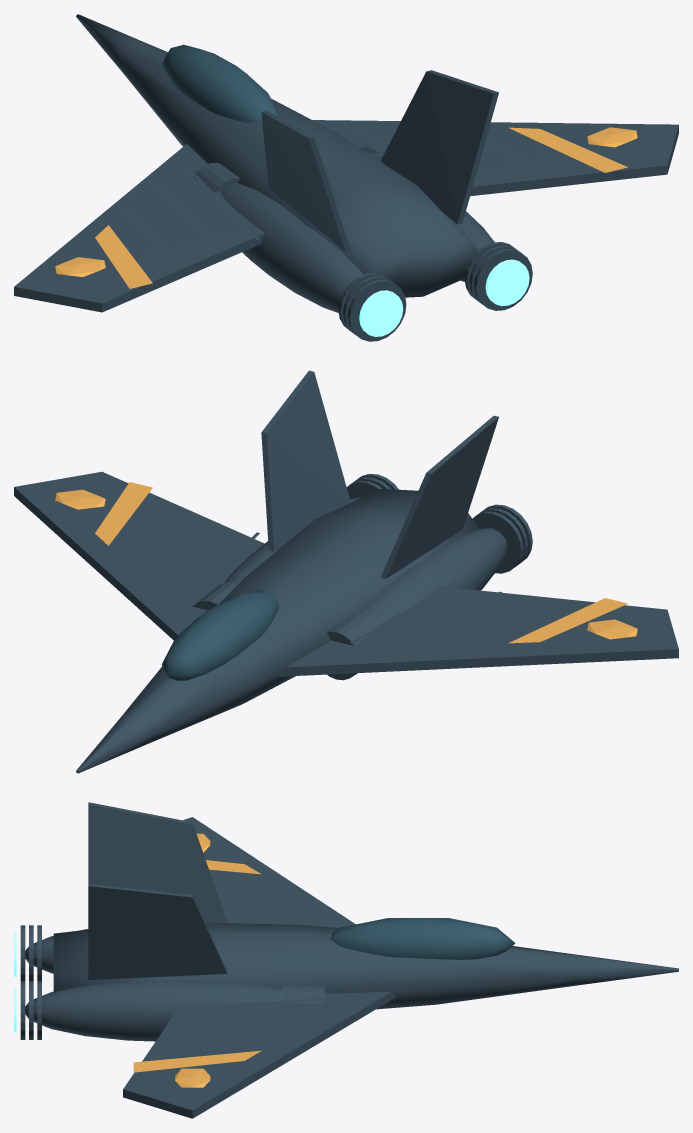
The model's file is recon-drone.glb.
The picture shows the model from 3 angles, top to bottom: view 1: azimuth 30°, elevation 25°; view 2: azimuth 150°, elevation 25°; view 3: azimuth 270°, elevation 25°; orthographic projection. The views are drawn at different scales.
Parts seen in each view (by area): view 1: recon-drone; view 2: recon-drone; view 3: recon-drone.
Boxes of the visible parts, x1,y1,x2,y2 form: recon-drone: (14, 14, 678, 341); recon-drone: (14, 370, 678, 773); recon-drone: (14, 802, 678, 1118).
Size of the model in its own units: 13 by 3.44 by 12.44.
